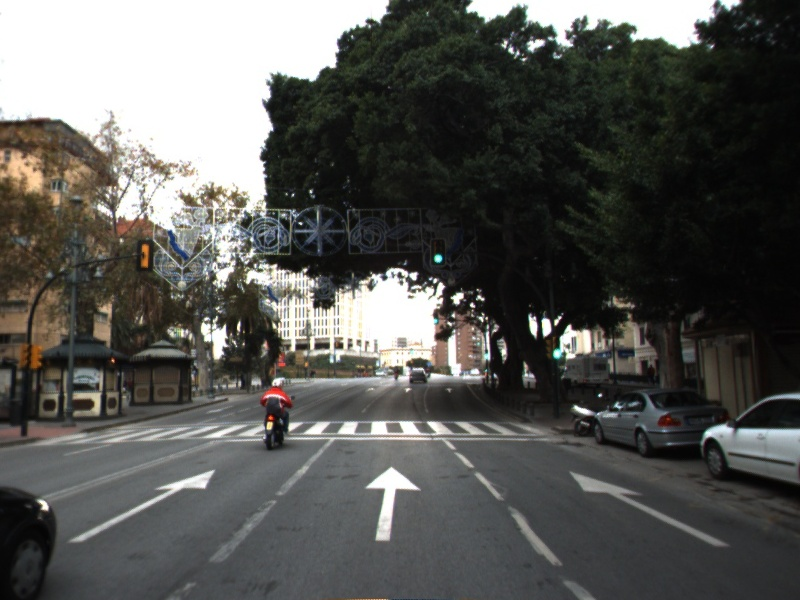STRAIGHT: (566, 468, 735, 549), (65, 466, 219, 545), (362, 463, 425, 543)
